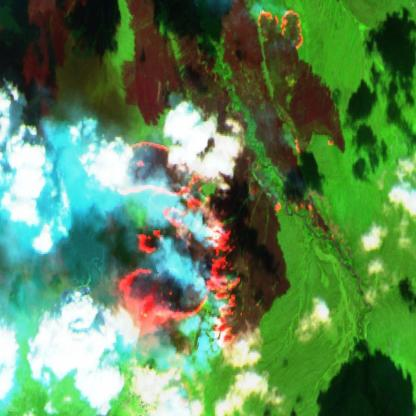fire: (107, 132, 242, 376), (254, 6, 308, 56)
